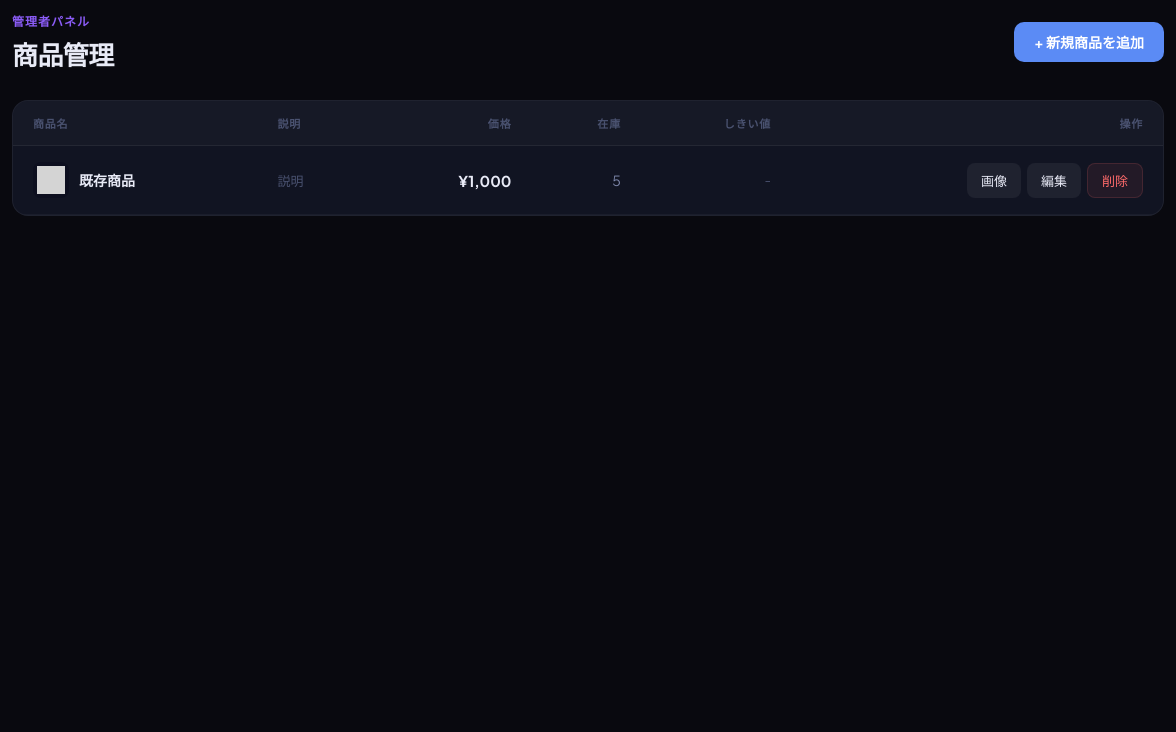
it: AdminProductsView › creates a product via createProduct
Expected: the text "既存商品" is shown, [79,170,135,190]
Step 1. Click the button "+ 新規商品を追加" → (1089, 42), box [1014,22,1164,62]
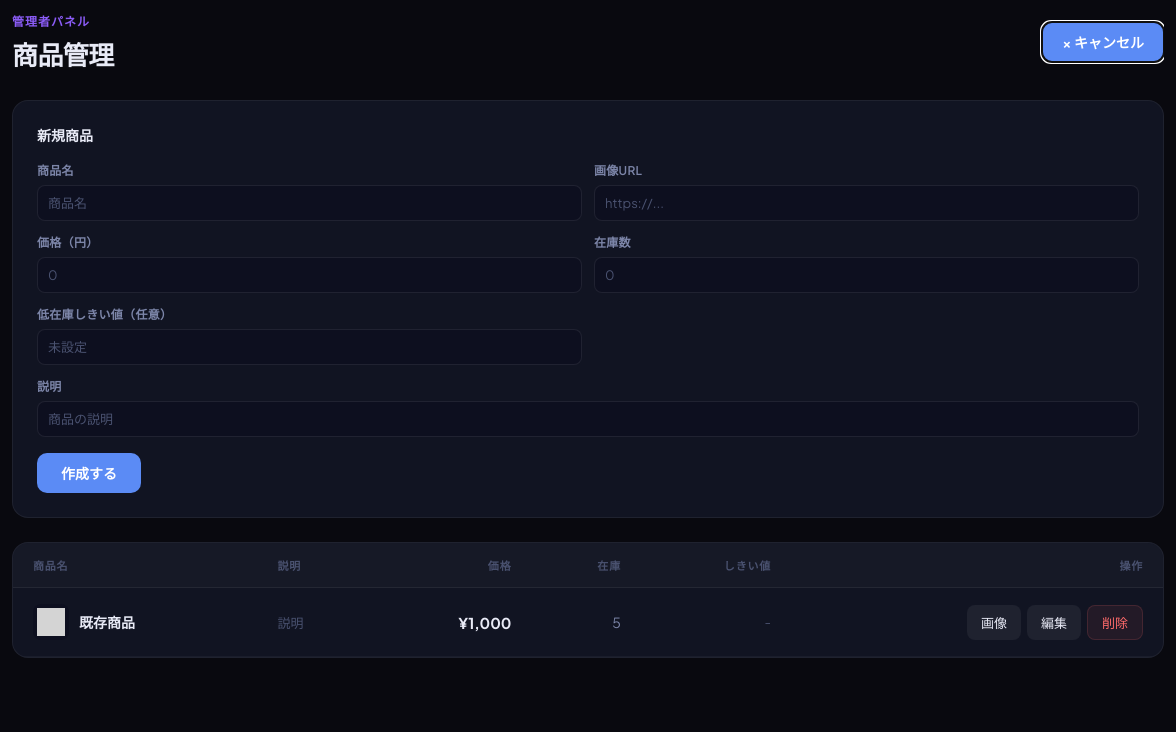
Step 2. Type "新商品" into the field with placeholder "商品名" → (310, 203), box [37,185,582,221]
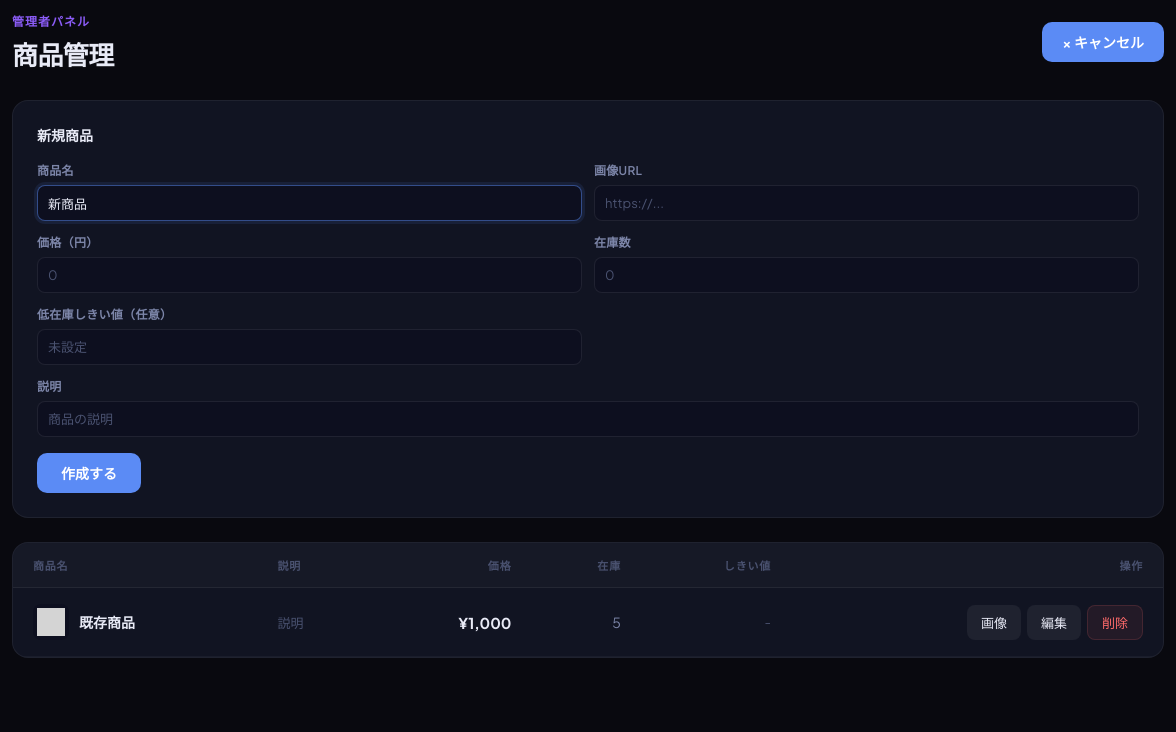
Step 3. Type "新しい説明" into the field with placeholder "商品の説明" → (588, 419), box [37,401,1139,437]
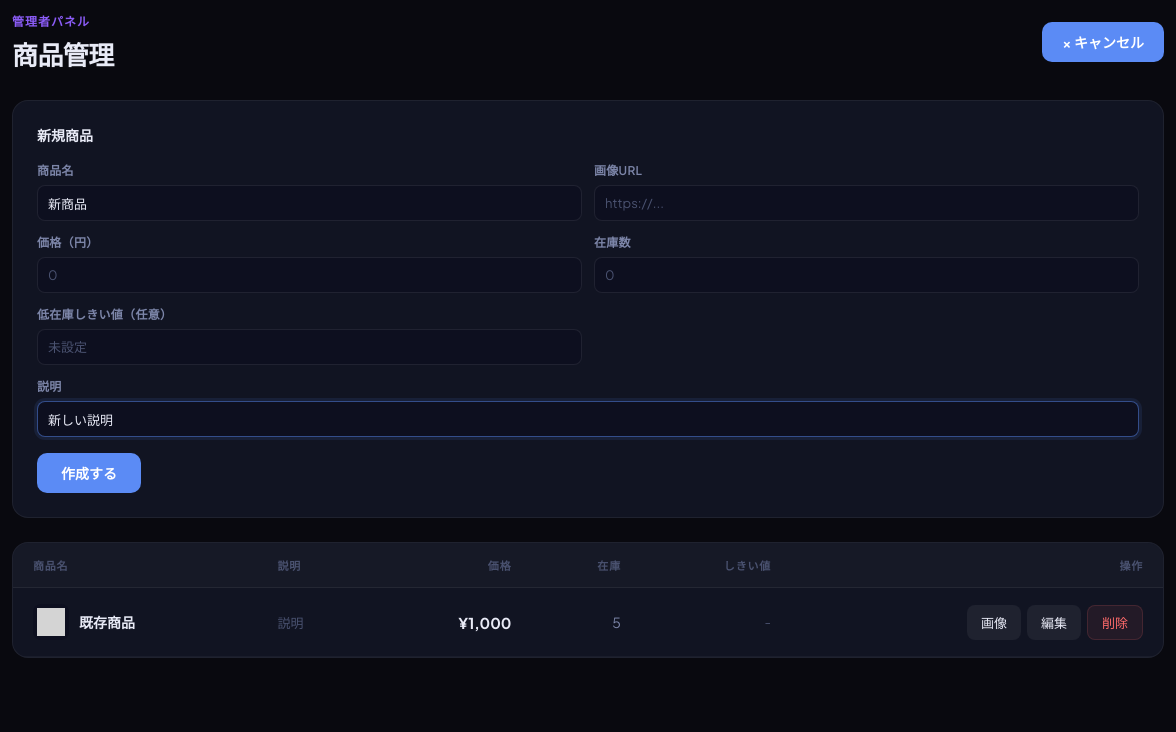
Step 4. Type "2000" into the number field with placeholder "0" below "価格（円）" → (310, 275), box [37,257,582,293]
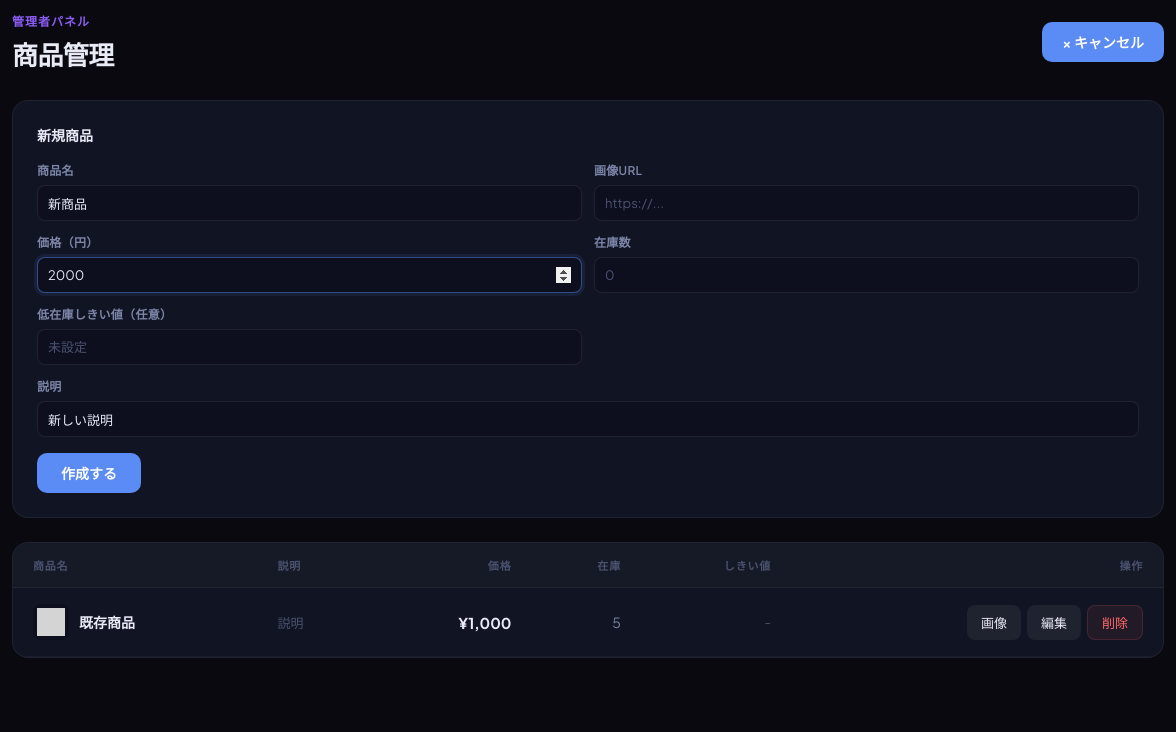
Step 5. Type "10" into the number field with placeholder "0" → (866, 275), box [594,257,1139,293]
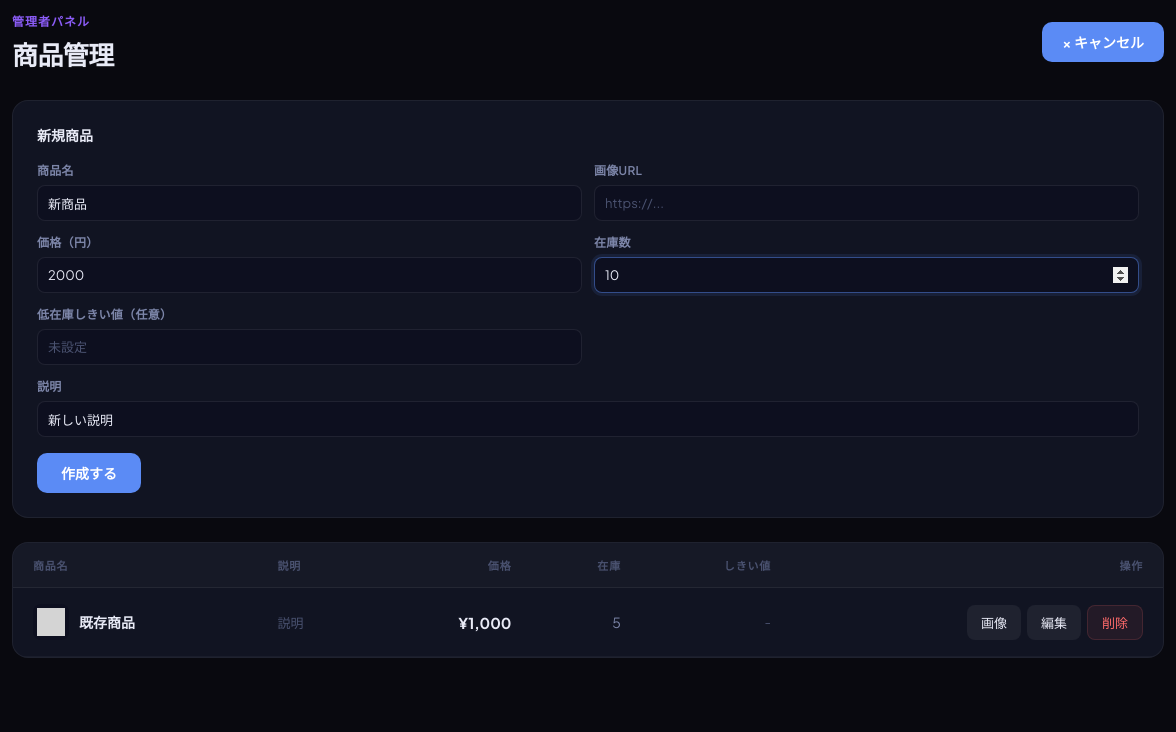
Step 6. Click the button "作成する" → (89, 473), box [37,453,141,493]
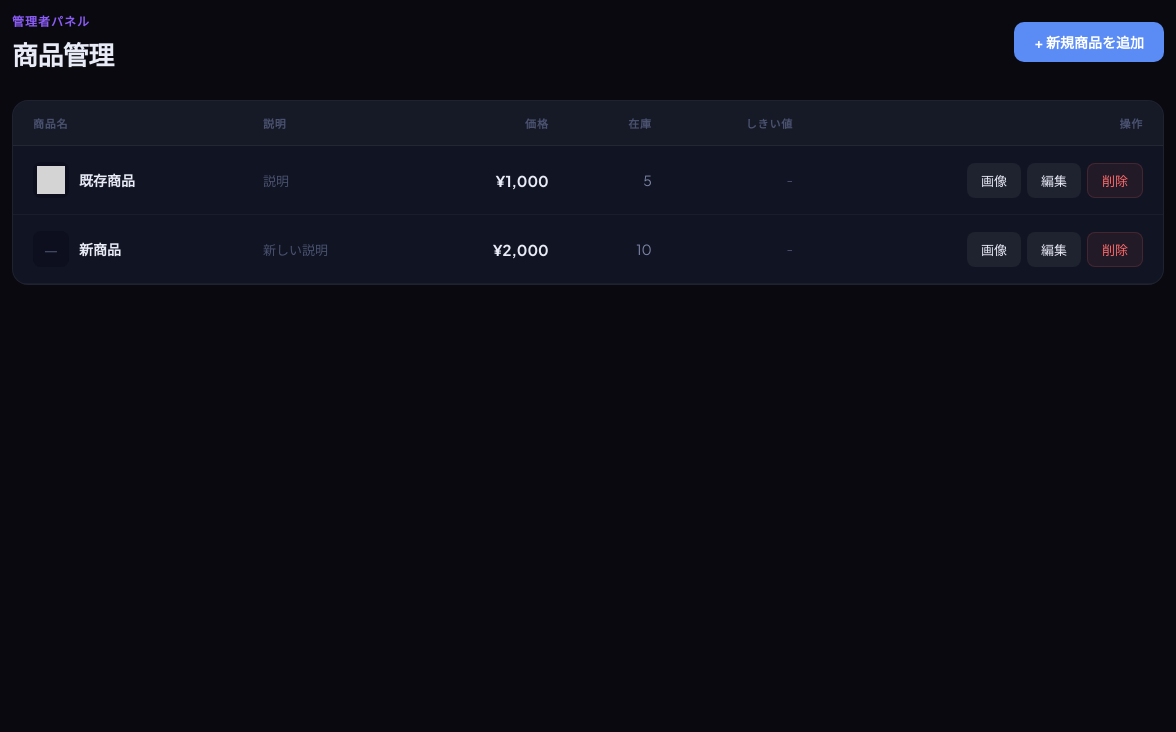
Result: the text "新商品" is shown at [79,239,121,259]
